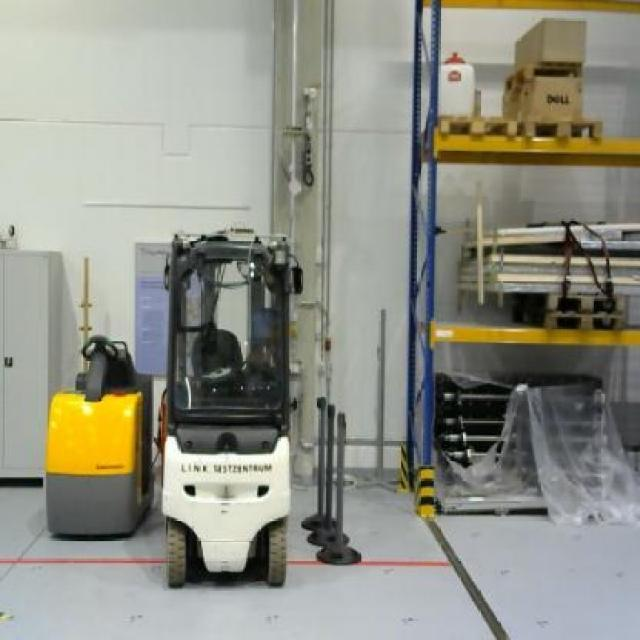box: (514, 16, 588, 69), (502, 74, 584, 120)
